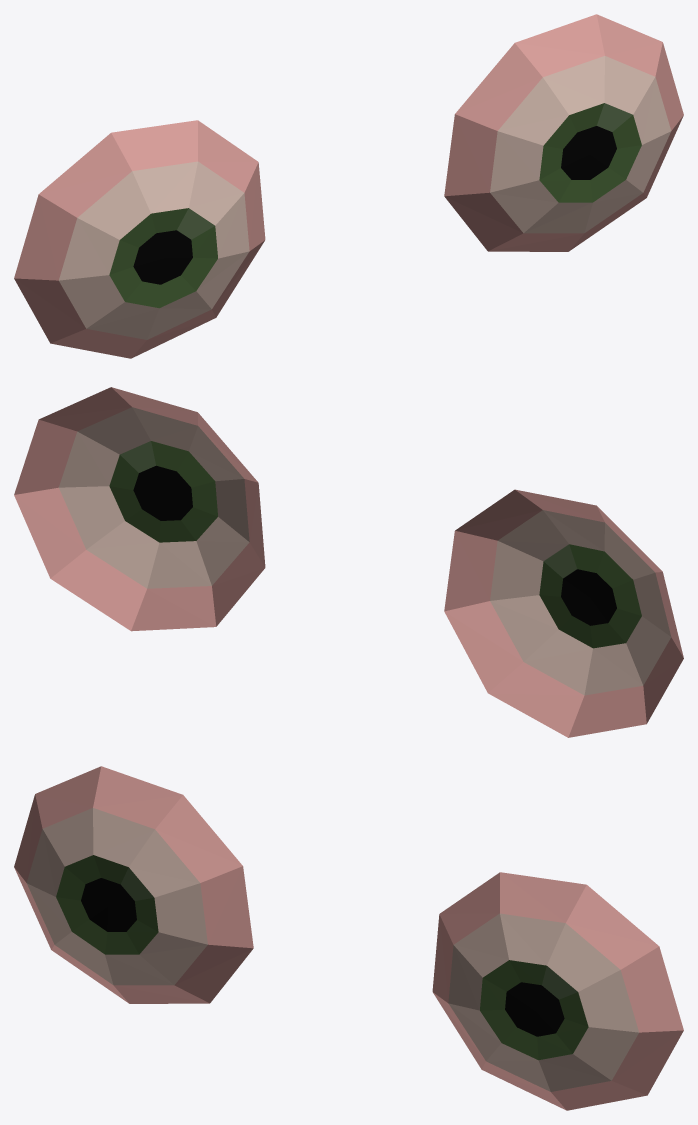
File: eyesGreen.glb
3 views of the same model, one above another, from view 1: azimuth 30°, elevation 25°; view 2: azimuth 150°, elevation 25°; view 3: azimuth 330°, elevation 25° (orthographic).
Parts seen in each view (by area): view 1: eyesGreen; view 2: eyesGreen; view 3: eyesGreen.
Part boxes in pixels (bbox=[...]): eyesGreen: bbox=[14, 14, 683, 358]; eyesGreen: bbox=[14, 387, 683, 737]; eyesGreen: bbox=[14, 766, 683, 1110].
Size of the model in its own units: 0.1488 by 0.0499 by 0.0119.
